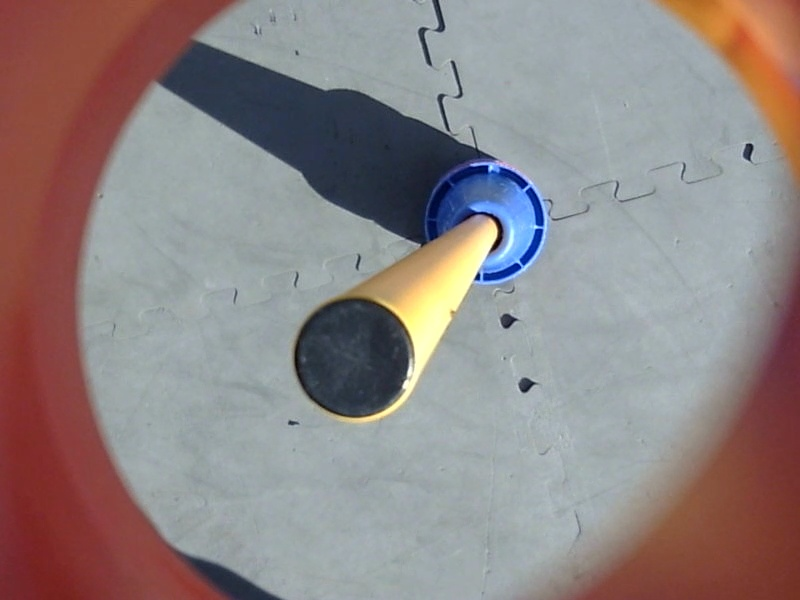tip: (286, 290, 425, 430)
